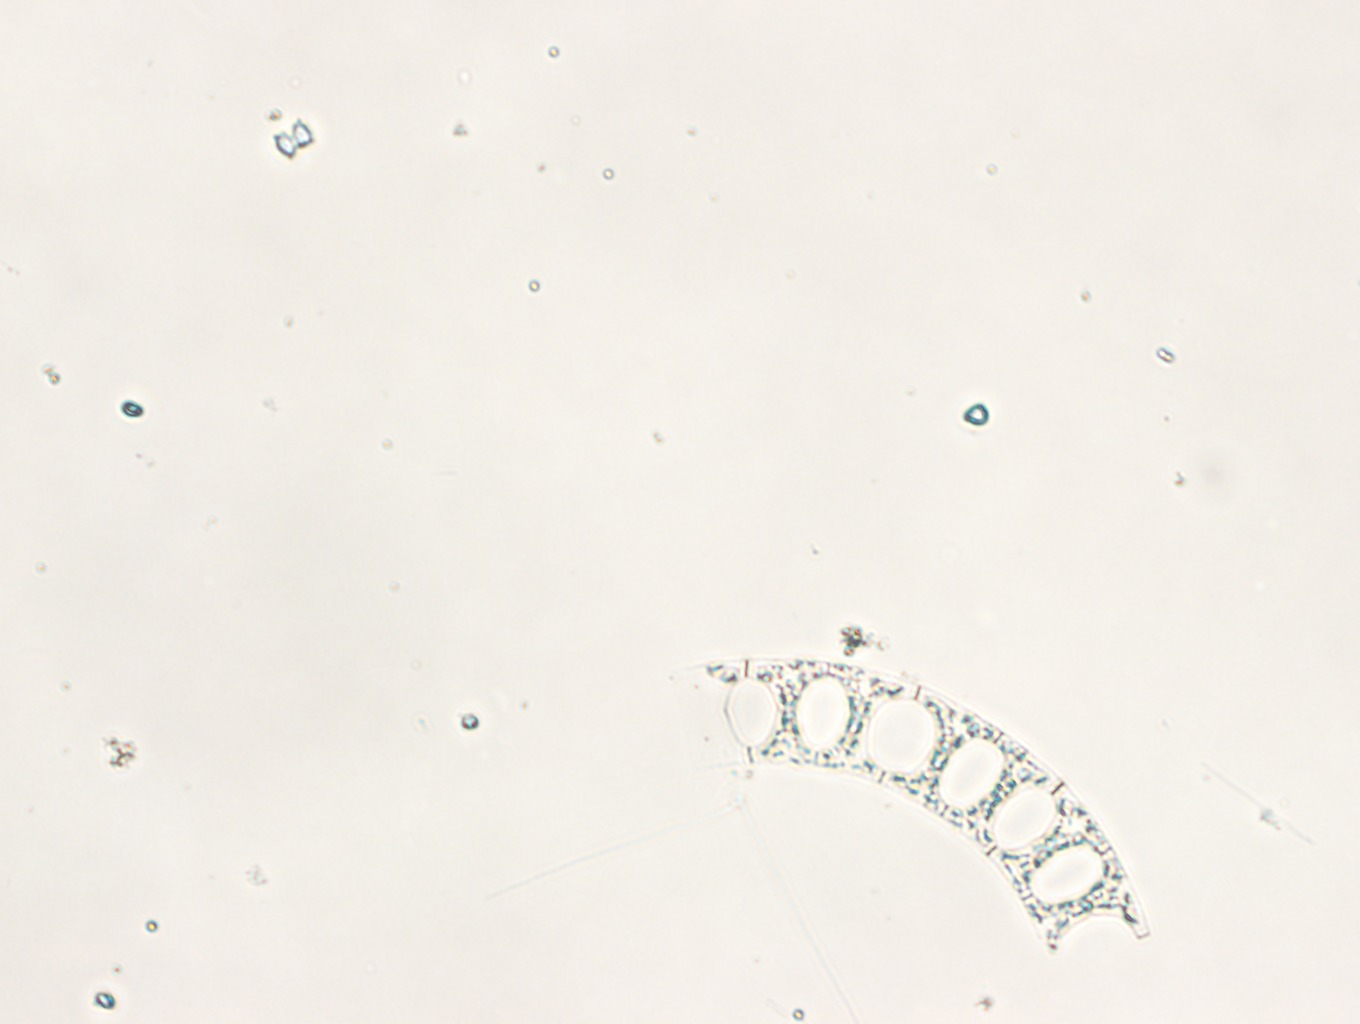eucampia: (693, 656, 1151, 956)
